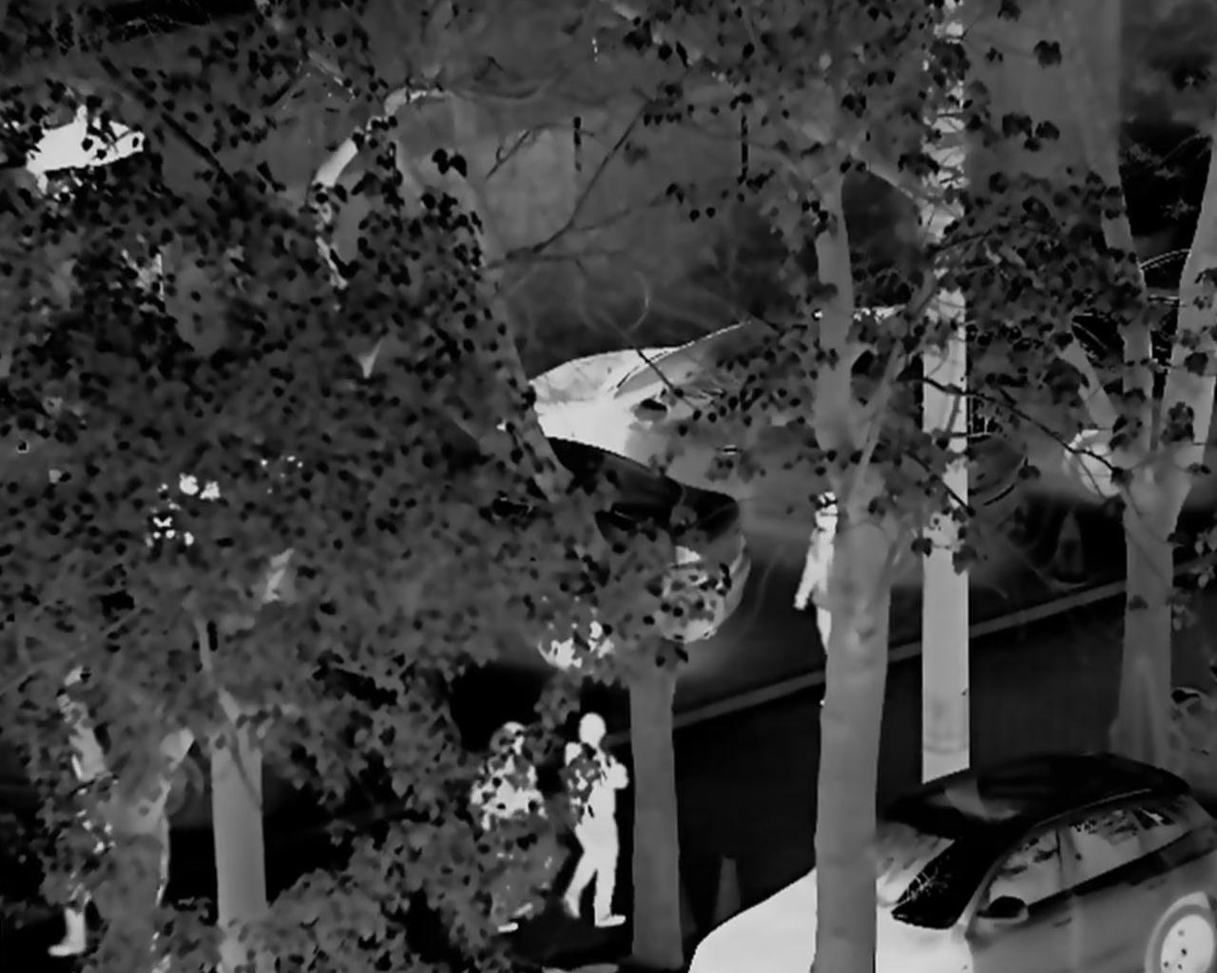person: (551, 706, 633, 938), (465, 715, 548, 939), (35, 745, 119, 955), (788, 491, 844, 725)
